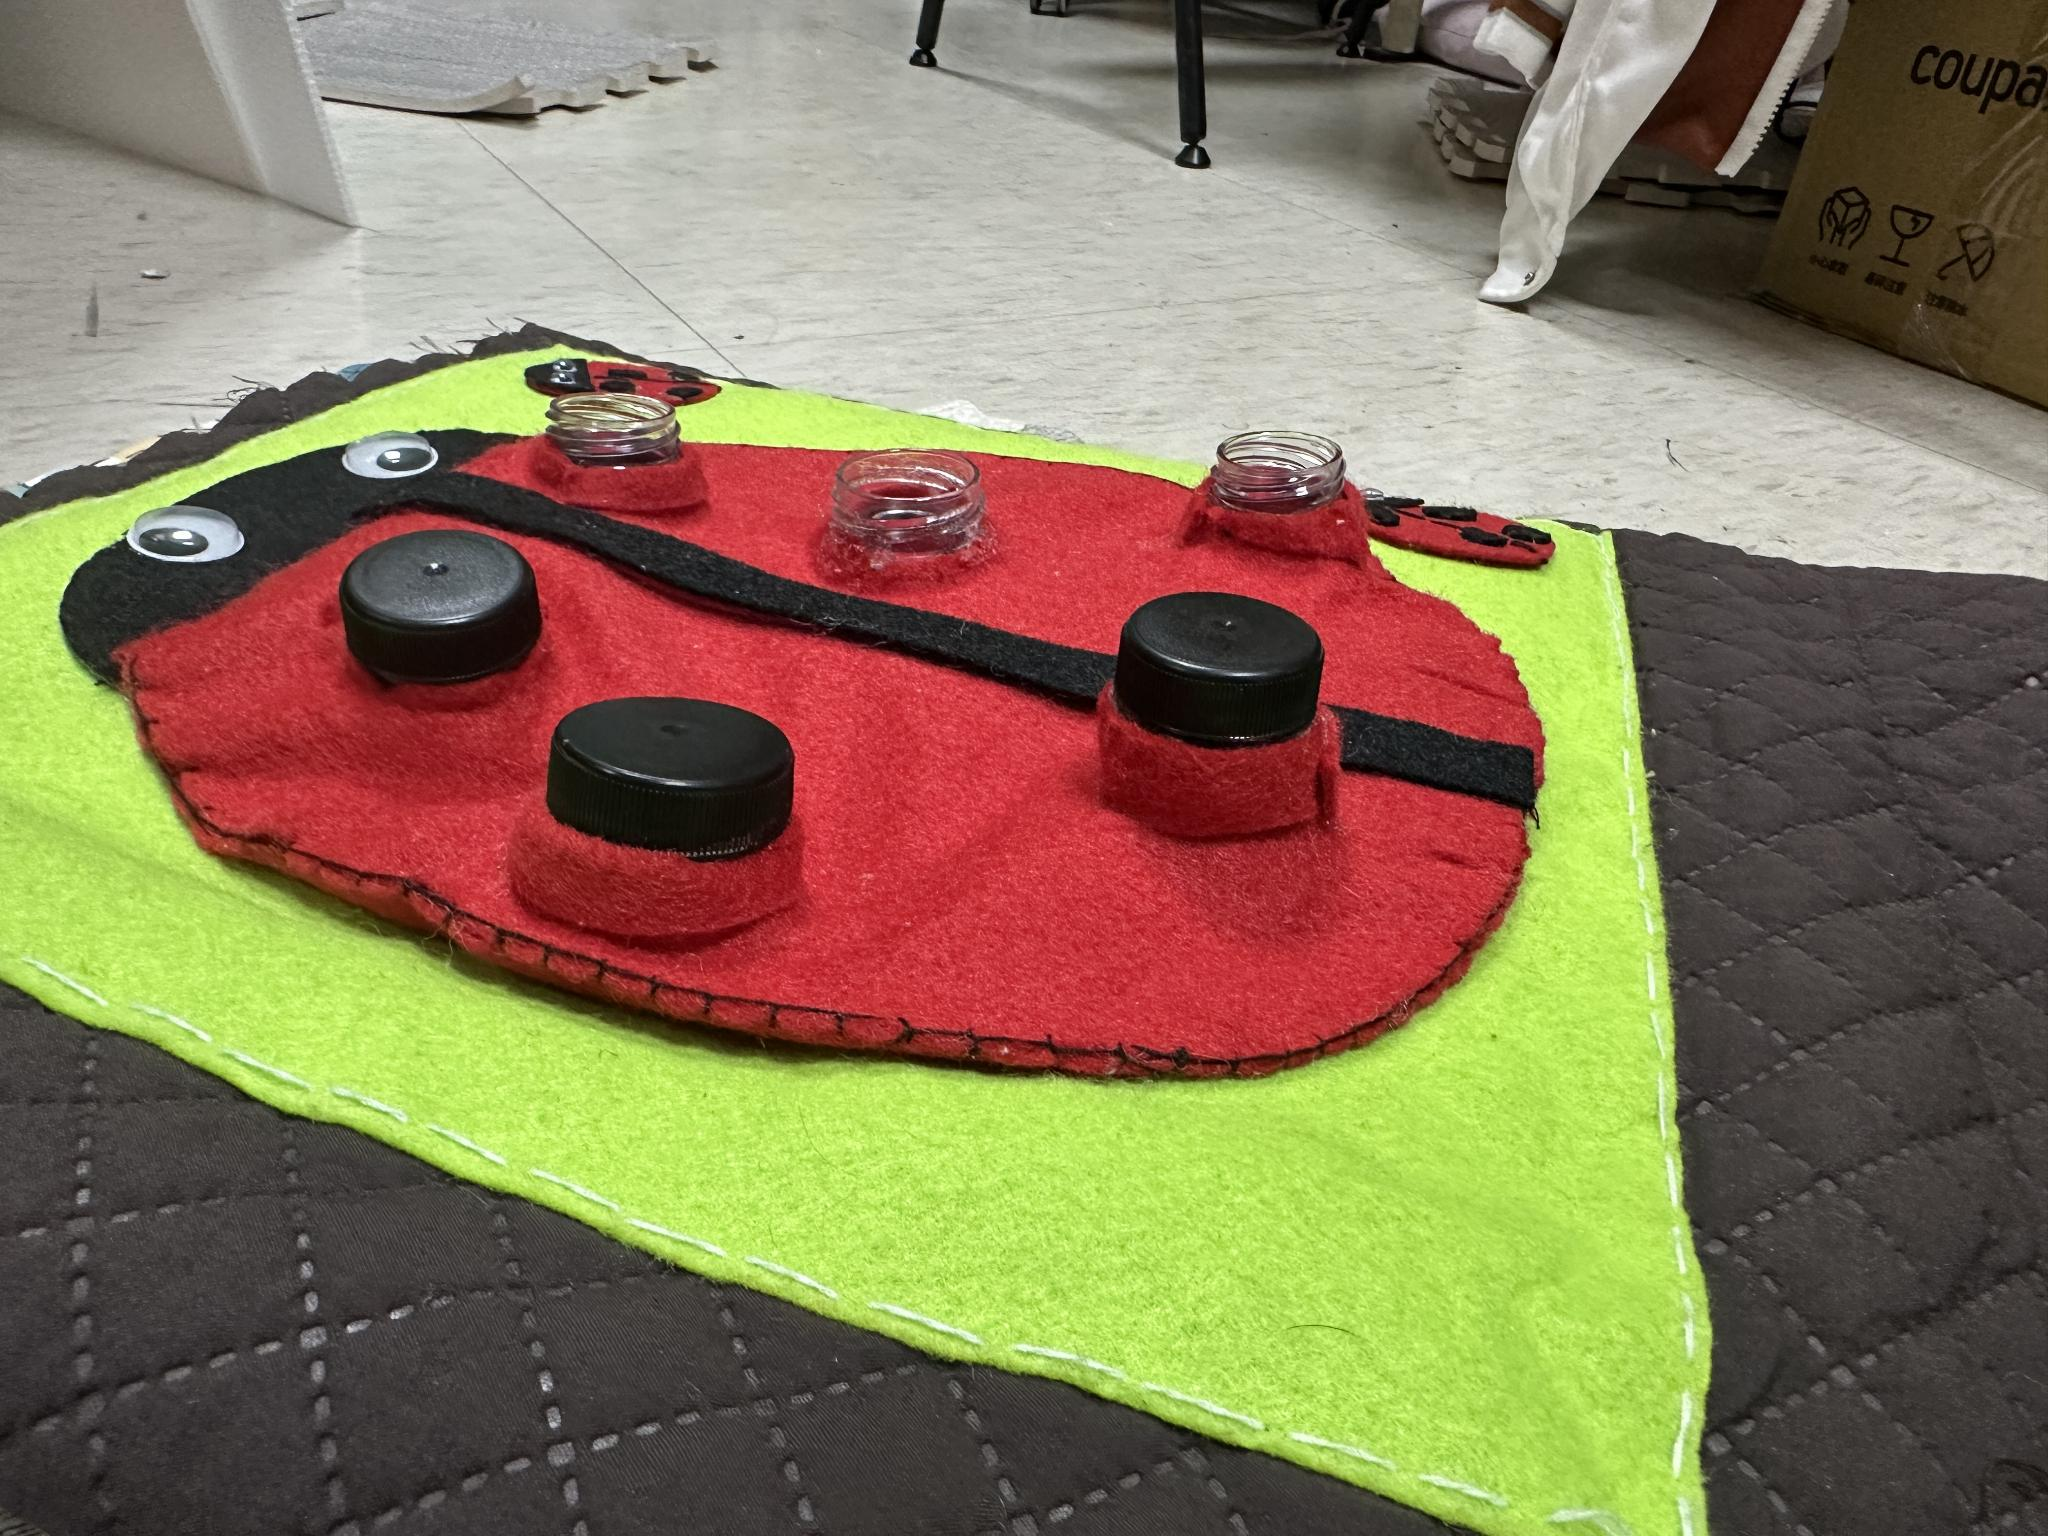cap_ok: (511, 674, 845, 951), (1075, 564, 1361, 837), (330, 508, 572, 708)
